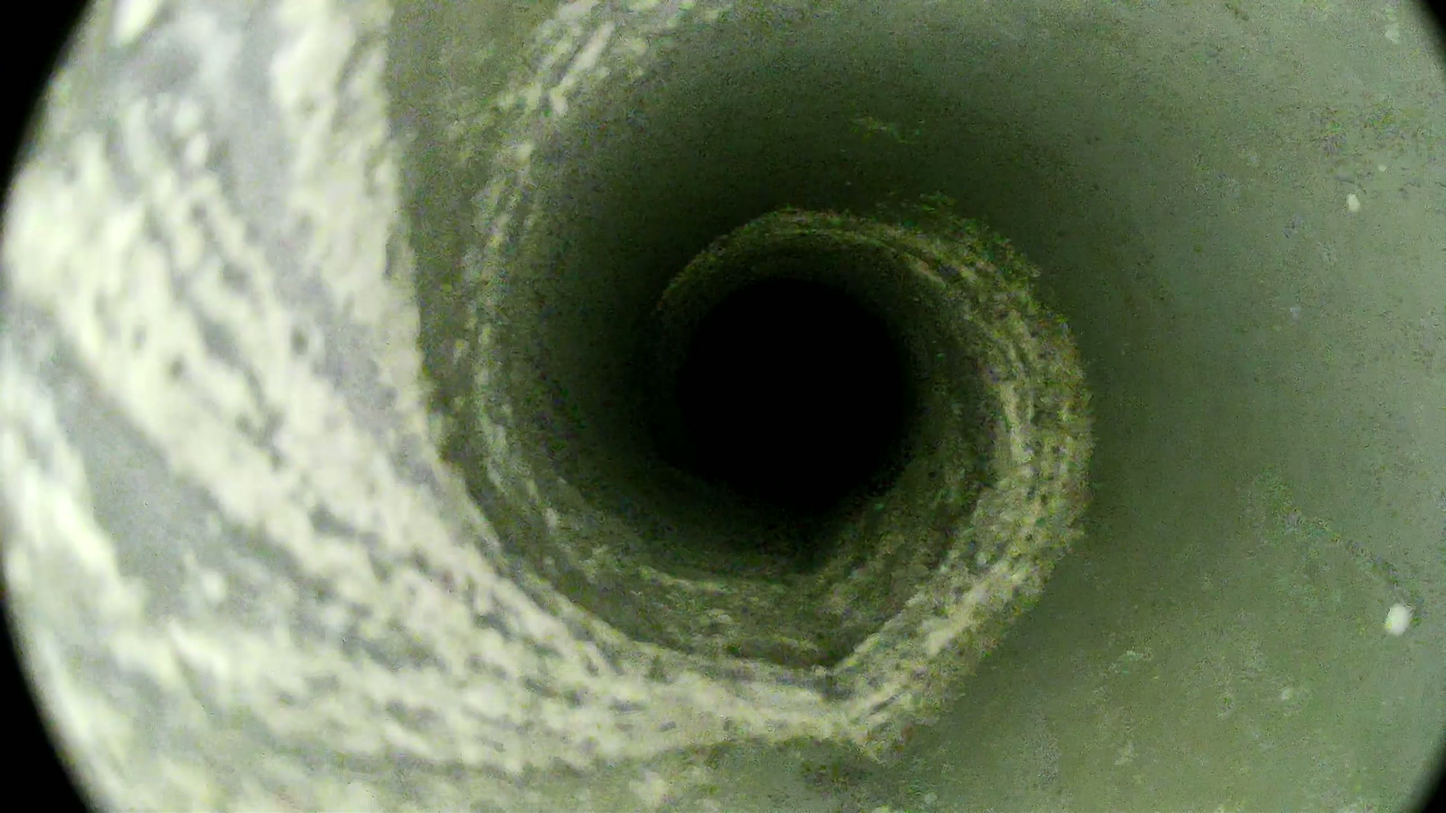hole: (681, 282, 900, 503)
